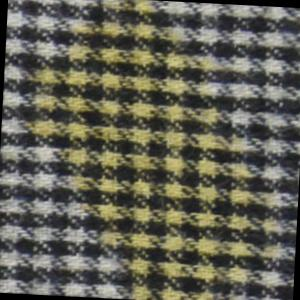Stain: (14, 1, 290, 300)
